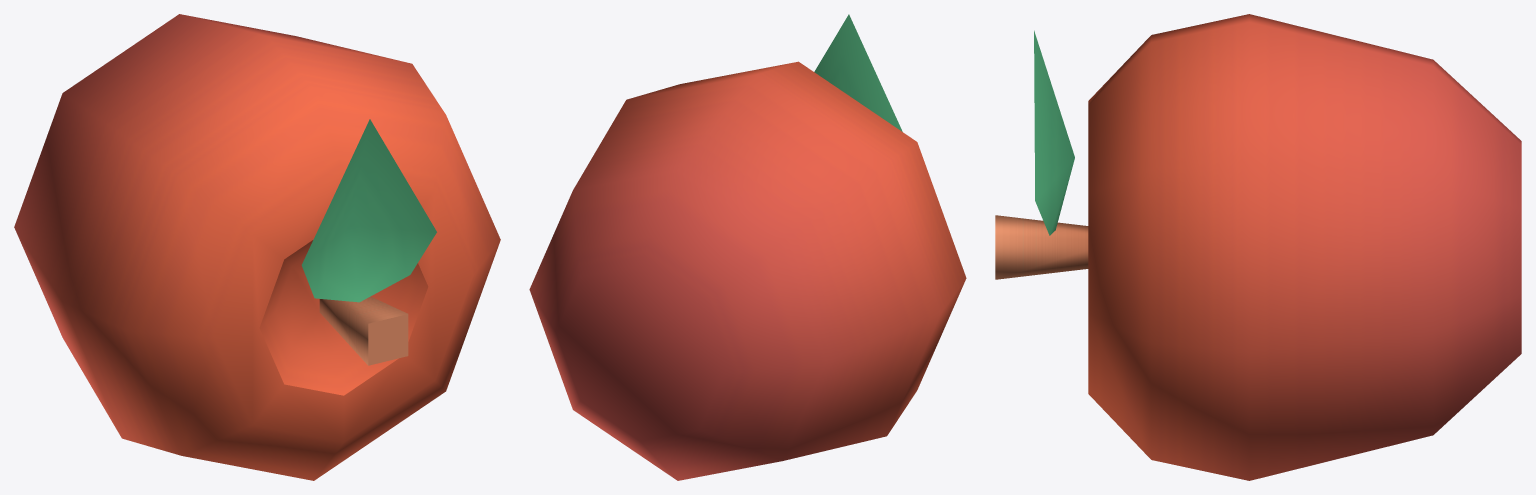
3 views of the same model, side by side, from view 1: azimuth 30°, elevation 25°; view 2: azimuth 150°, elevation 25°; view 3: azimuth 270°, elevation 25° (orthographic). The views are drawn at different scales.
Parts seen in each view (by area): view 1: apple; view 2: apple; view 3: apple.
Part boxes in pixels (x1,y1,x2,y2): apple: (14,14,500,480); apple: (529,14,966,480); apple: (995,14,1521,480).
Size of the model in its own units: 0.085 by 0.085 by 0.09.
1 material, 1 textured.
